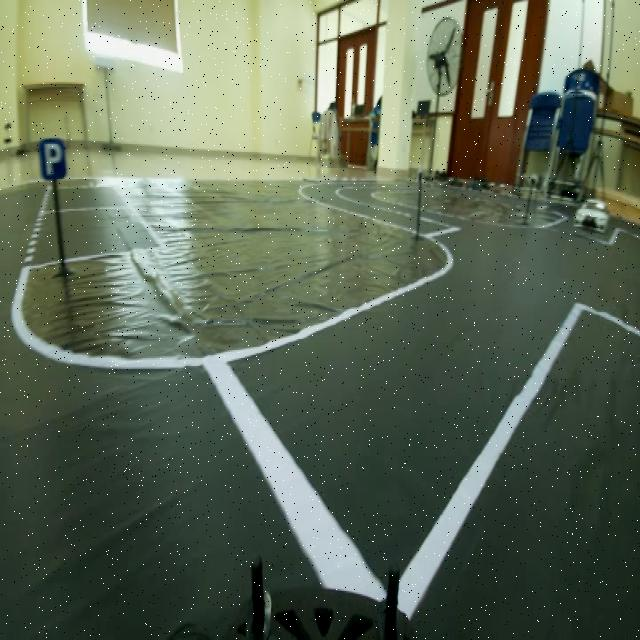parking: (34, 134, 71, 192)
